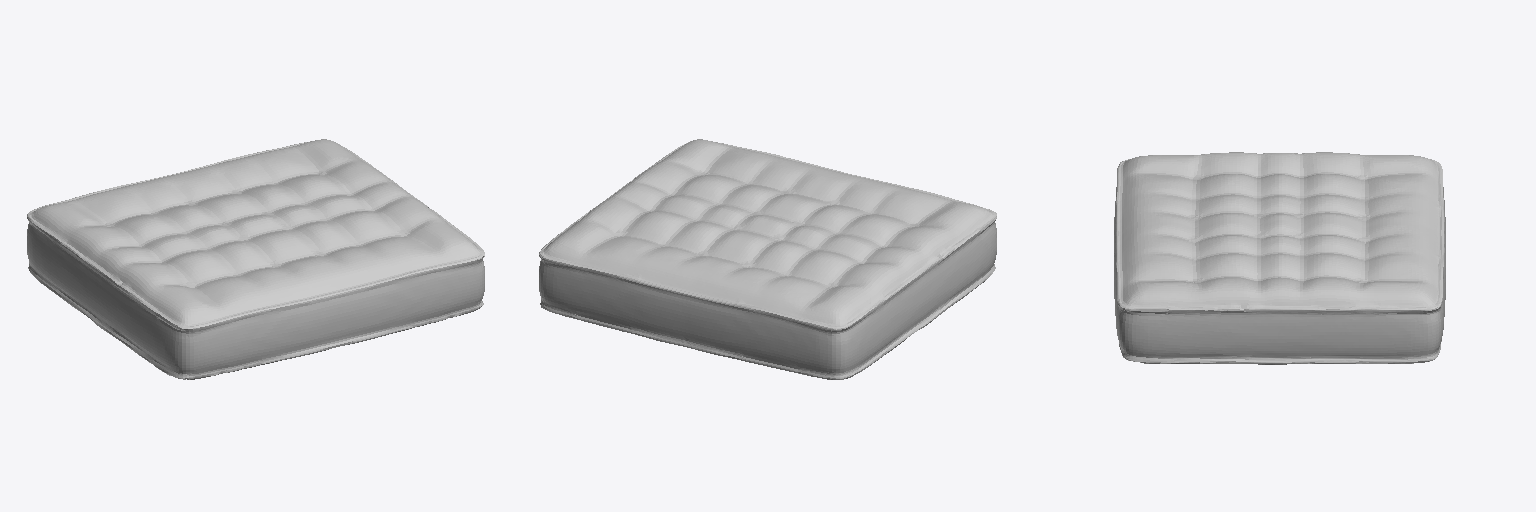
The model's file is twin size mattress.obj.
3 renders of one model, left to right at view 1: azimuth 30°, elevation 25°; view 2: azimuth 150°, elevation 25°; view 3: azimuth 270°, elevation 25°, orthographic.
Parts seen in each view (by area): view 1: Mesh0; view 2: Mesh0; view 3: Mesh0.
Part boxes in pixels (x1,y1,x2,y2): Mesh0: (27,139,484,379); Mesh0: (539,139,996,379); Mesh0: (1114,152,1445,364).
Bounding box in the file's own units: 2 × 0.4482 × 1.83.